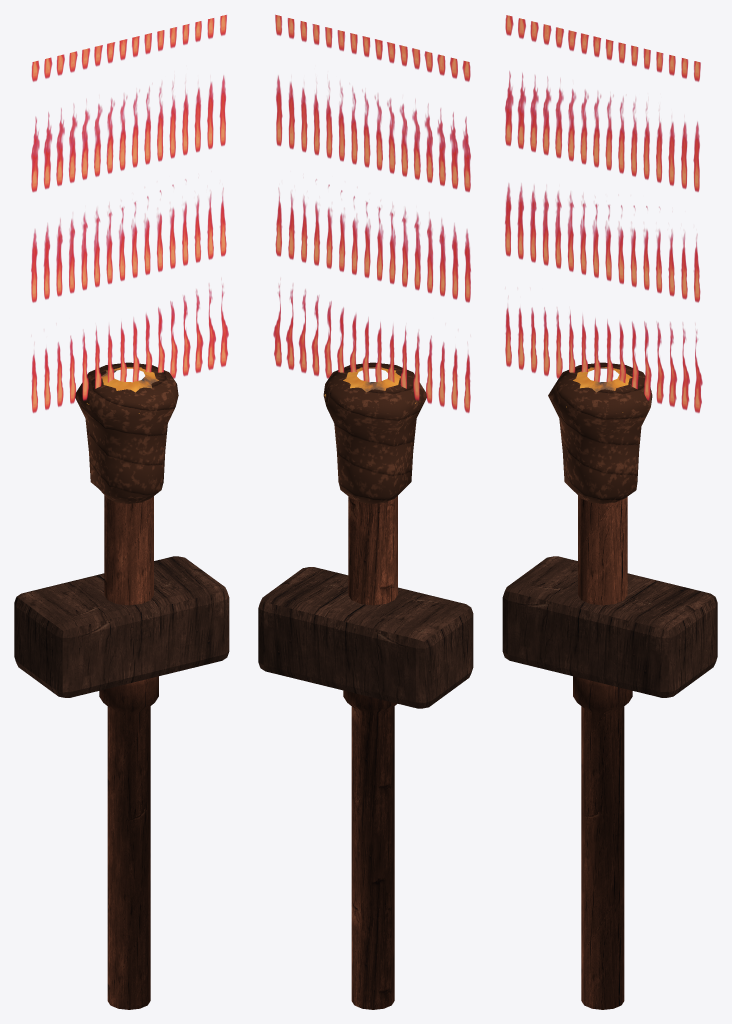
Rendered from mm7_deco_torch01_red.glb.
3 renders of one model, left to right at view 1: azimuth 30°, elevation 25°; view 2: azimuth 150°, elevation 25°; view 3: azimuth 330°, elevation 25°, orthographic.
Parts seen in each view (by area): view 1: Torch01; view 2: Torch01; view 3: Torch01.
Part boxes in pixels (box(x1,y1,x2,y2)): Torch01: box(14, 15, 229, 1009); Torch01: box(258, 14, 473, 1009); Torch01: box(502, 15, 717, 1009).
Bounding box in the file's own units: 0.3427 × 1.57 × 0.175.
5 materials, 5 textured.
